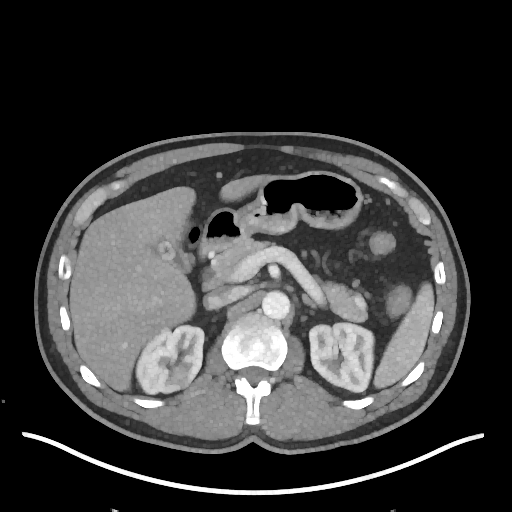Lesion: (163, 356, 194, 388)
